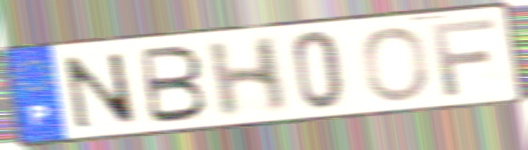0: (289, 28, 351, 113)
B: (138, 43, 211, 126)
F: (428, 16, 499, 99)
H: (204, 33, 290, 121)
N: (59, 51, 142, 132)
O: (360, 25, 433, 104)
